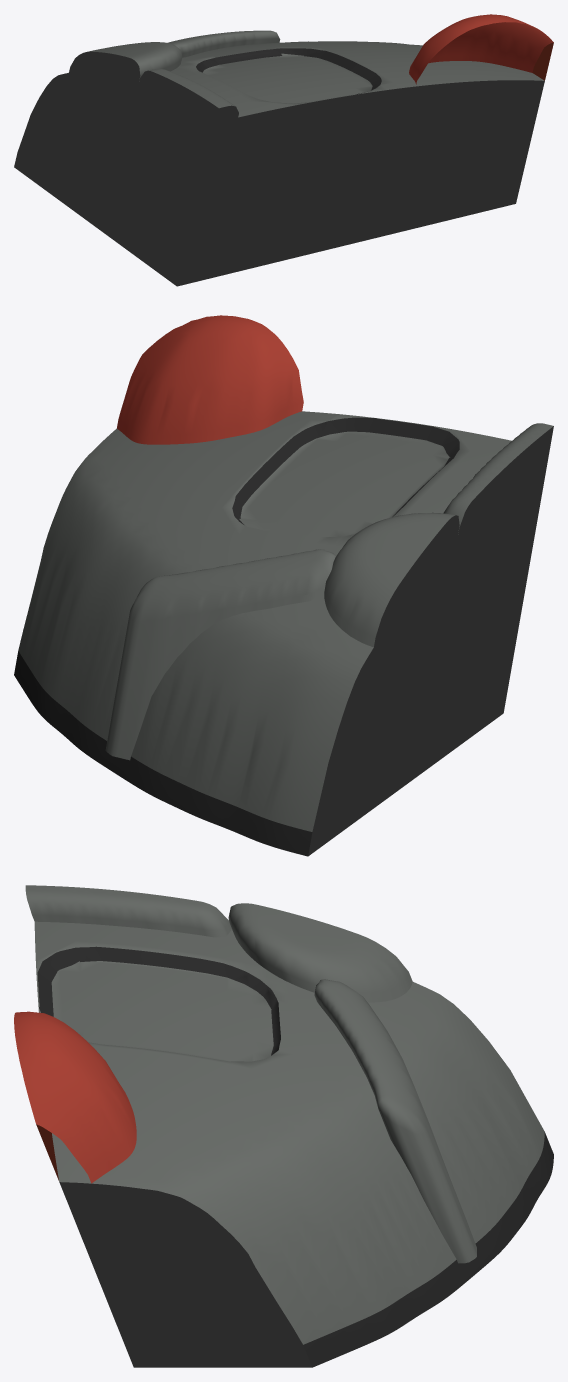
File: dome_head_12.glb
3 renders of one model, top to bottom at view 1: azimuth 30°, elevation 25°; view 2: azimuth 150°, elevation 25°; view 3: azimuth 270°, elevation 25°, orthographic. The views are drawn at different scales.
Visible parts, largest first — view 1: dome_head_12; view 2: dome_head_12; view 3: dome_head_12.
Boxes of the visible parts, bbox=[...] form: dome_head_12: bbox=[14, 14, 553, 286]; dome_head_12: bbox=[14, 315, 553, 856]; dome_head_12: bbox=[14, 885, 553, 1367].
Size of the model in its own units: 24 by 15.73 by 25.69.
